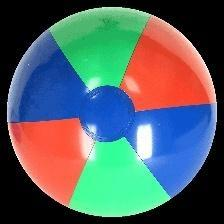Sports-Ball: (5, 4, 219, 223)
